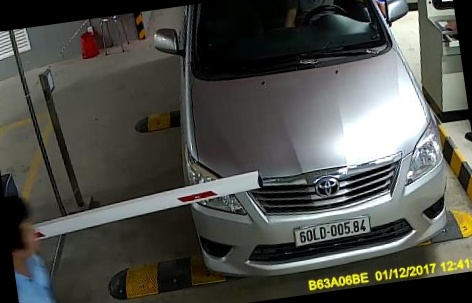plate: (288, 216, 375, 251)
